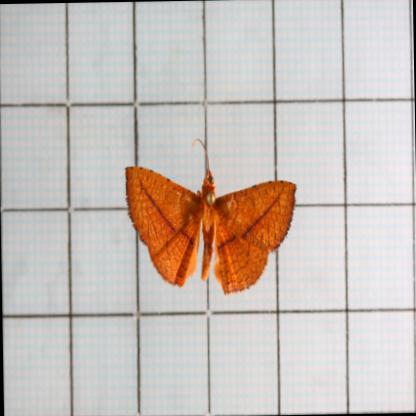Leaf Webber: (122, 166, 295, 294)
